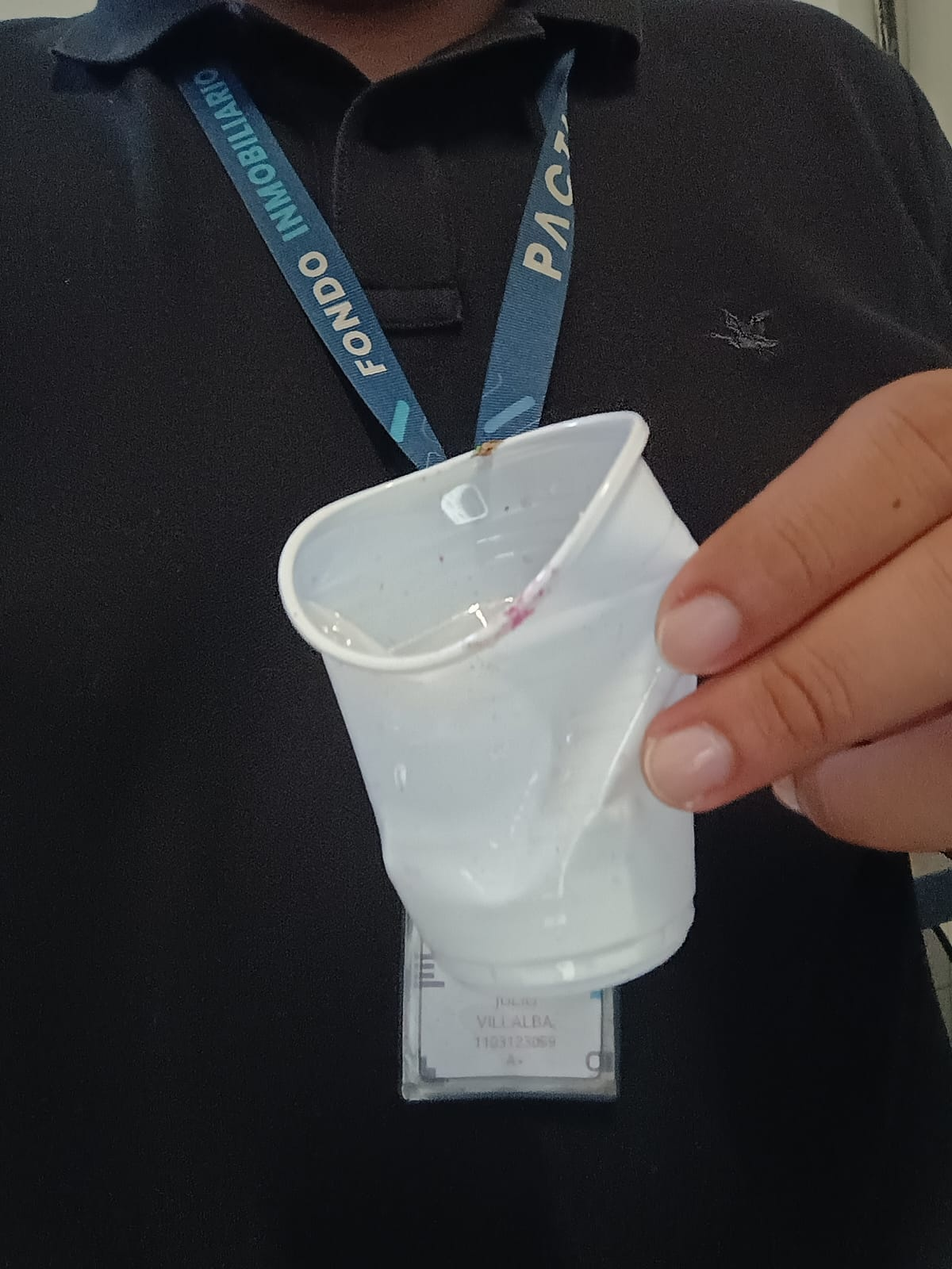Plastico: (278, 411, 712, 995)
